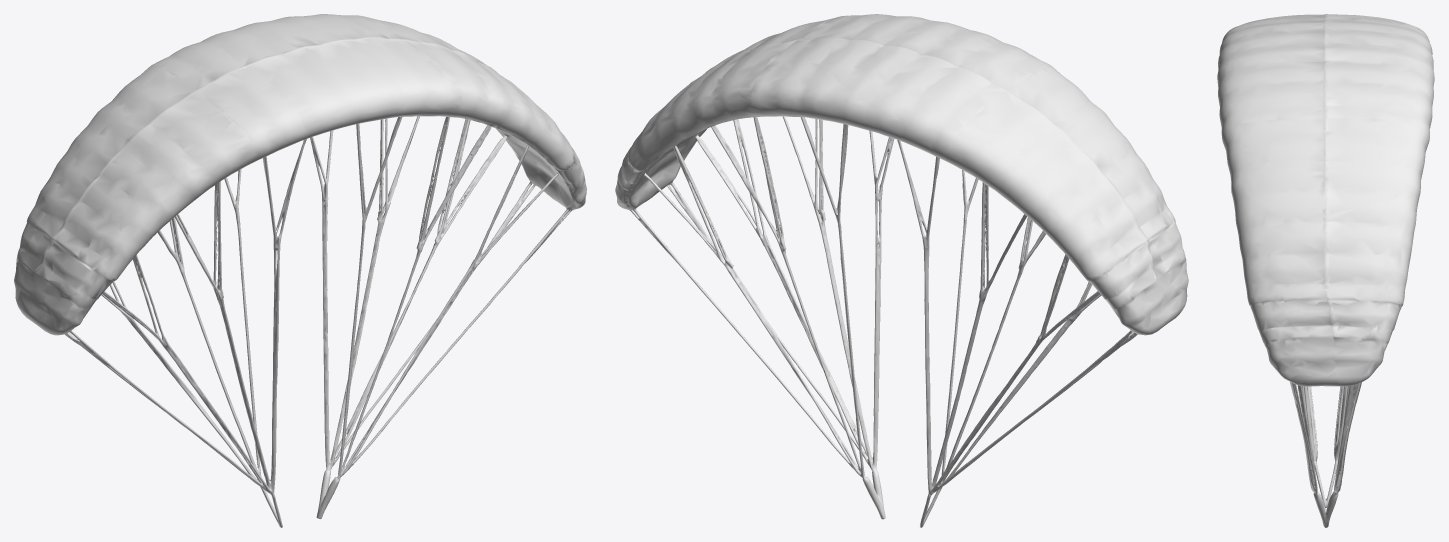
The model's file is paraglider.glb.
3 renders of one model, left to right at view 1: azimuth 30°, elevation 25°; view 2: azimuth 150°, elevation 25°; view 3: azimuth 270°, elevation 25°, orthographic.
Visible parts, largest first — view 1: parachute; view 2: parachute; view 3: parachute.
Boxes of the visible parts, x1,y1,x2,y2 form: parachute: [14, 14, 586, 527]; parachute: [615, 14, 1188, 527]; parachute: [1217, 14, 1434, 527].
Bounding box in the file's own units: 1.9 × 1.61 × 0.6756.
1 material, 1 textured.
